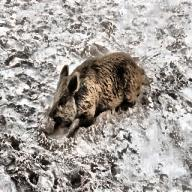boar: (40, 51, 150, 138)
